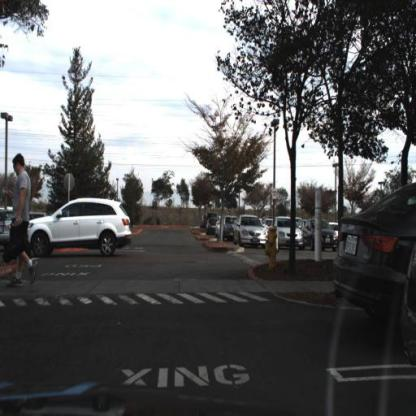car: (332, 183, 416, 355), (28, 197, 133, 256), (303, 218, 339, 254), (269, 217, 304, 253), (232, 217, 267, 248), (217, 215, 234, 244), (220, 214, 238, 241), (208, 218, 218, 237)
pedestrian: (11, 156, 38, 290)
